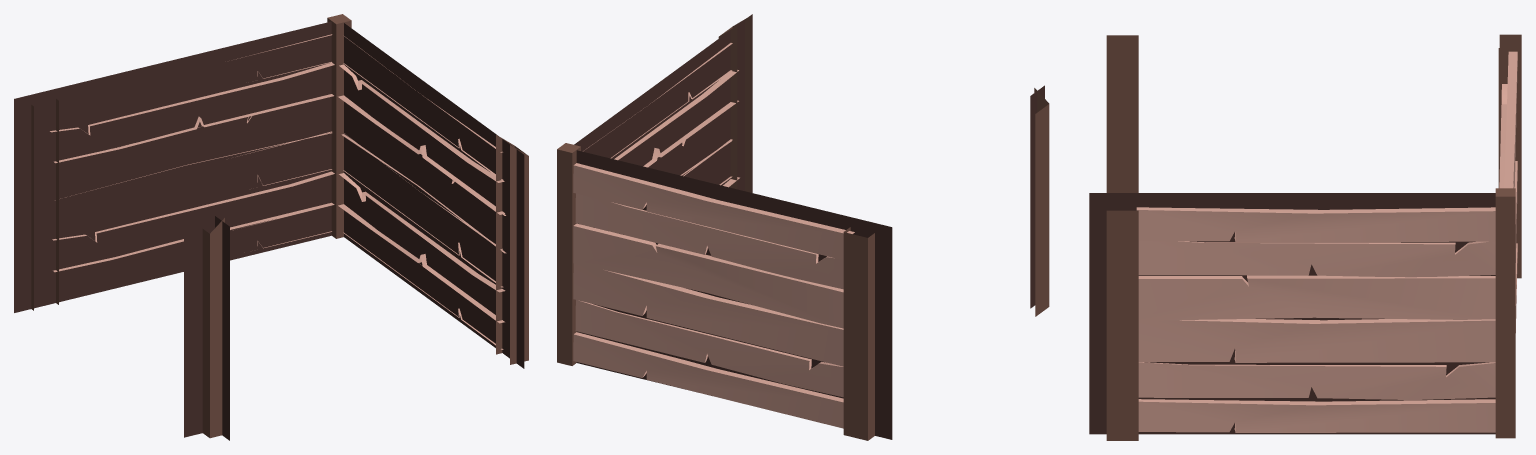
File: Building_Angle_004.glb
The picture shows the model from 3 angles, left to right: view 1: azimuth 30°, elevation 25°; view 2: azimuth 150°, elevation 25°; view 3: azimuth 270°, elevation 25°; orthographic projection. The views are drawn at different scales.
Parts seen in each view (by area): view 1: Building_Angle_004; view 2: Building_Angle_004; view 3: Building_Angle_004.
Part boxes in pixels (bbox=[...]): Building_Angle_004: bbox=[14, 14, 528, 440]; Building_Angle_004: bbox=[557, 14, 1049, 440]; Building_Angle_004: bbox=[1089, 34, 1521, 440].
Bounding box in the file's own units: 7.4 × 4.61 × 7.29.
Materials: 1 (1 with a texture image).
